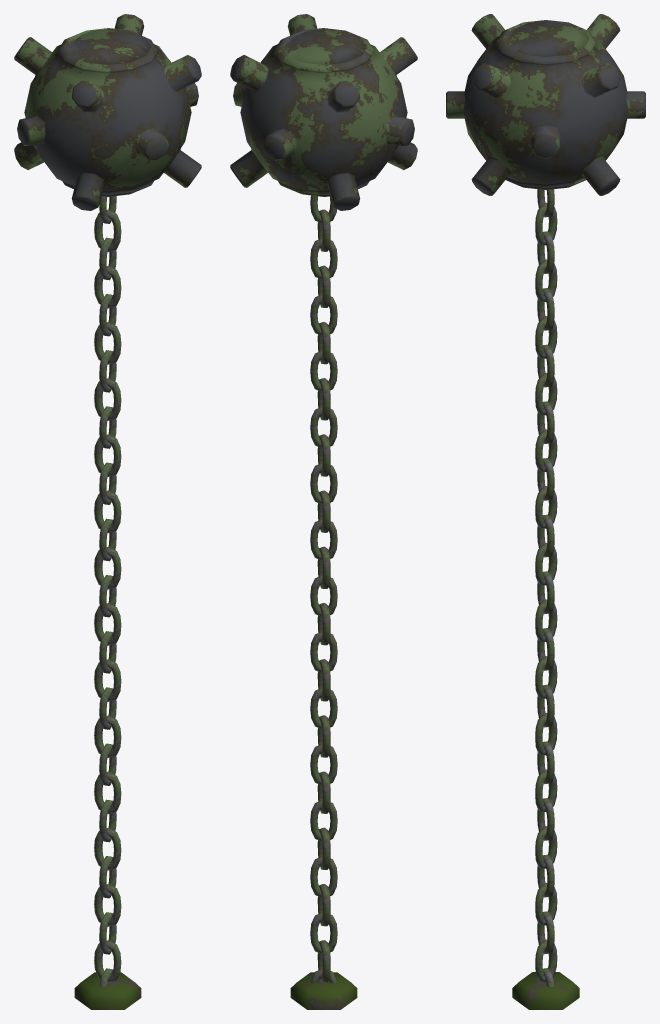
Rendered from DeepSeaMine.fbx.
3 views of the same model, side by side, from view 1: azimuth 30°, elevation 25°; view 2: azimuth 150°, elevation 25°; view 3: azimuth 270°, elevation 25° (orthographic).
Parts seen in each view (by area): view 1: DeepSeaMine; view 2: DeepSeaMine; view 3: DeepSeaMine.
Boxes of the visible parts, <box> form: DeepSeaMine: <box>14,14,201,1009</box>; DeepSeaMine: <box>230,14,417,1009</box>; DeepSeaMine: <box>446,14,645,1009</box>.
Size of the model in its own units: 235 by 1260 by 237.
